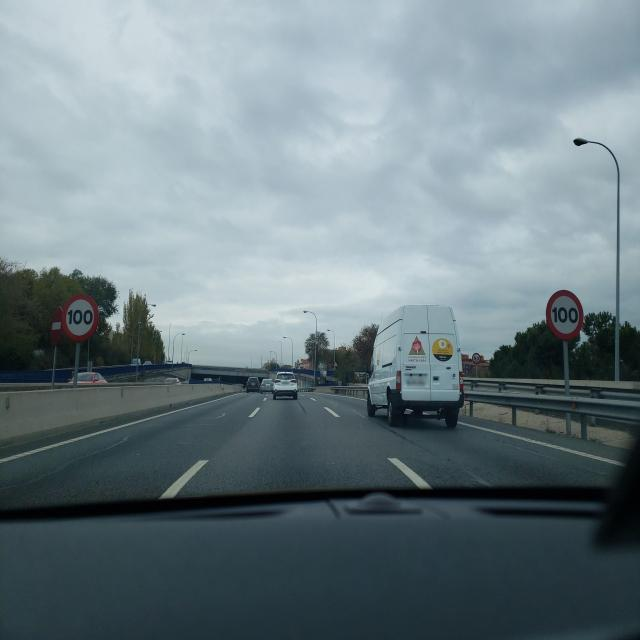car: (366, 304, 464, 428), (272, 371, 298, 401), (68, 371, 110, 385), (246, 377, 261, 393), (259, 378, 274, 393)
